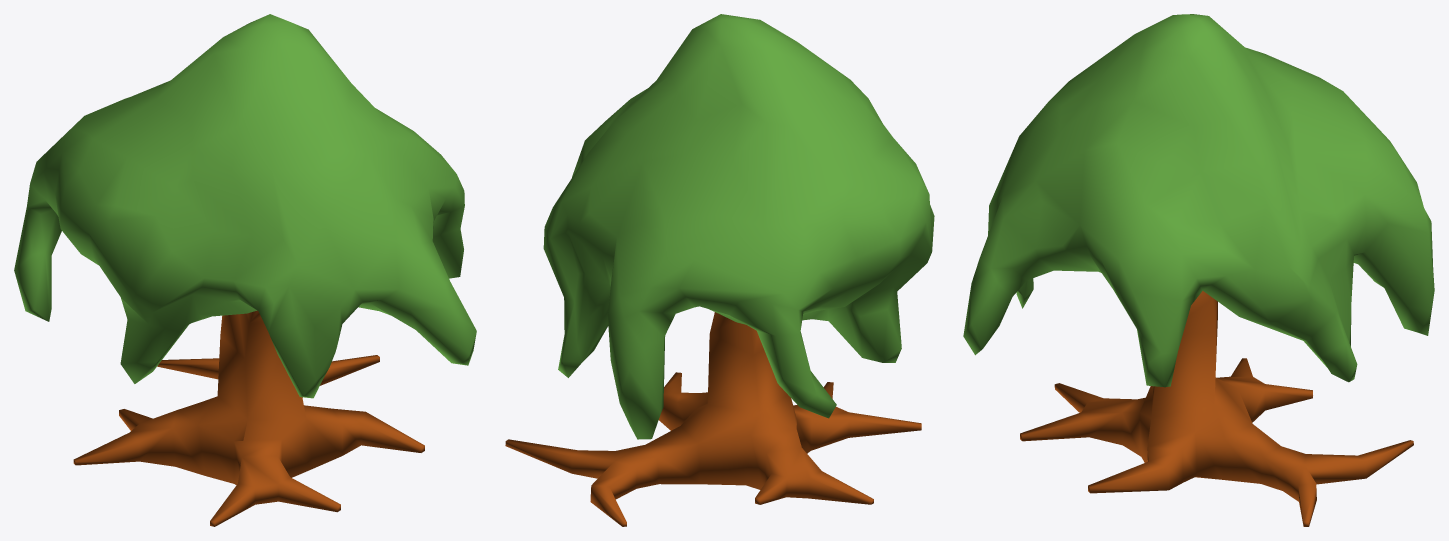
File: Tree_22_Spring.fbx
3 renders of one model, left to right at view 1: azimuth 30°, elevation 25°; view 2: azimuth 150°, elevation 25°; view 3: azimuth 270°, elevation 25°, orthographic.
Parts seen in each view (by area): view 1: Tree_22_p2_Spring, Tree_22_p1_Spring; view 2: Tree_22_p2_Spring, Tree_22_p1_Spring; view 3: Tree_22_p2_Spring, Tree_22_p1_Spring.
Boxes of the visible parts, bbox=[...] form: Tree_22_p2_Spring: bbox=[14, 14, 476, 398]; Tree_22_p1_Spring: bbox=[73, 310, 424, 526]; Tree_22_p2_Spring: bbox=[543, 14, 934, 439]; Tree_22_p1_Spring: bbox=[505, 312, 921, 526]; Tree_22_p2_Spring: bbox=[963, 14, 1434, 387]; Tree_22_p1_Spring: bbox=[1020, 291, 1413, 526].
Bounding box in the file's own units: 530 × 620 × 593.
